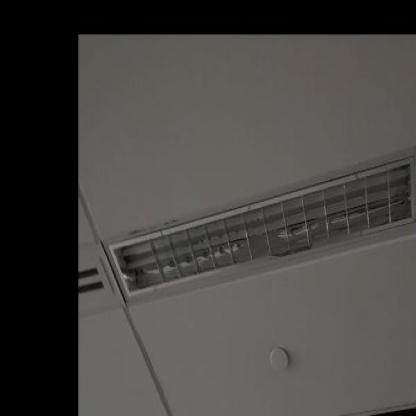light_off: (101, 132, 416, 306)
